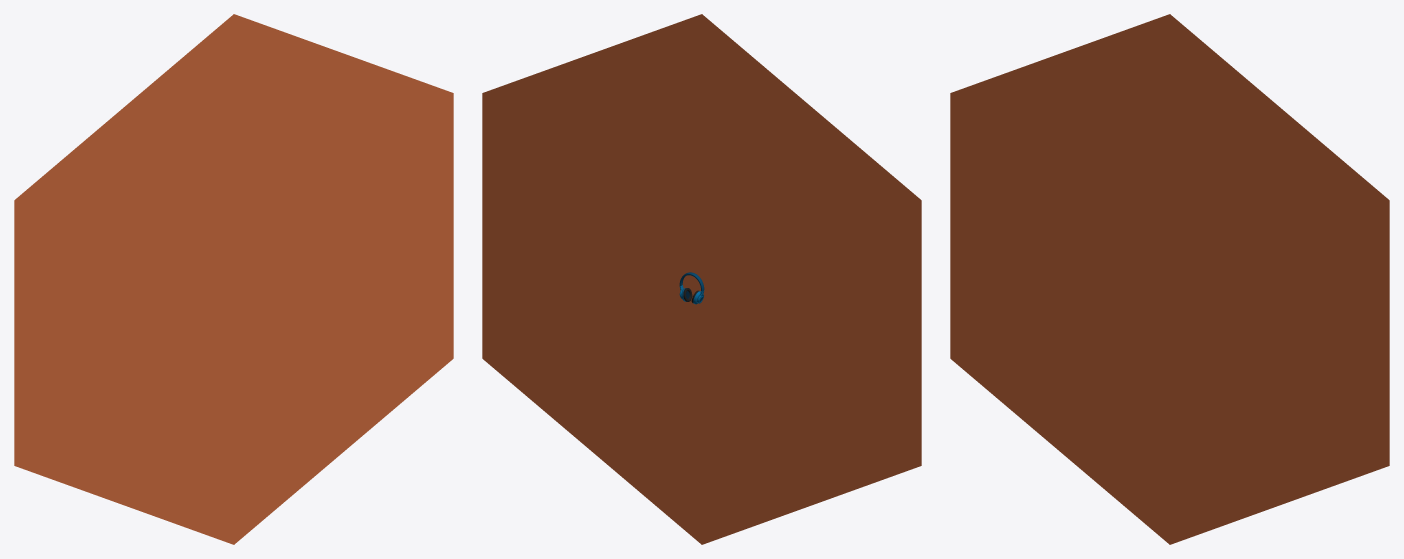
Rendered from headphone_fixedboi2.fbx.
3 renders of one model, left to right at view 1: azimuth 30°, elevation 25°; view 2: azimuth 150°, elevation 25°; view 3: azimuth 330°, elevation 25°, orthographic.
Parts seen in each view (by area): view 1: background_01; view 2: background_01; view 3: background_01.
Boxes of the visible parts, left/top/right/bottom form: background_01: left=14, top=14, right=453, bottom=544; background_01: left=482, top=14, right=921, bottom=544; background_01: left=950, top=14, right=1389, bottom=544.
Bounding box in the file's own units: 173 × 200 × 9.21.
Materials: 2 (1 with a texture image).
